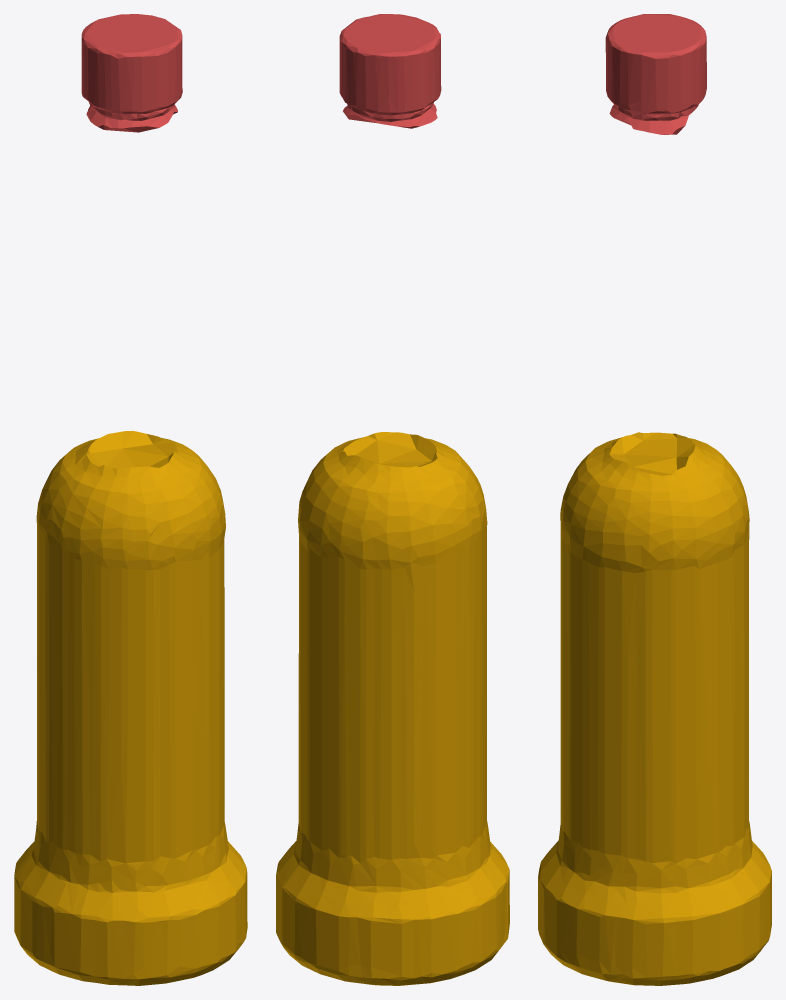
Rendered from fractured_51_2pcs_transformed.glb.
The picture shows the model from 3 angles, left to right: view 1: azimuth 30°, elevation 25°; view 2: azimuth 150°, elevation 25°; view 3: azimuth 270°, elevation 25°; orthographic projection.
Visible parts, largest first — view 1: piece_0.obj, piece_1.obj; view 2: piece_0.obj, piece_1.obj; view 3: piece_0.obj, piece_1.obj.
Boxes of the visible parts, left/top/right/bottom form: piece_0.obj: left=14, top=431, right=247, bottom=985; piece_1.obj: left=81, top=14, right=182, bottom=132; piece_0.obj: left=276, top=432, right=509, bottom=985; piece_1.obj: left=339, top=14, right=441, bottom=128; piece_0.obj: left=538, top=432, right=771, bottom=985; piece_1.obj: left=605, top=14, right=706, bottom=134.
Size of the model in its own units: 0.3732 by 1.6 by 0.3731.
